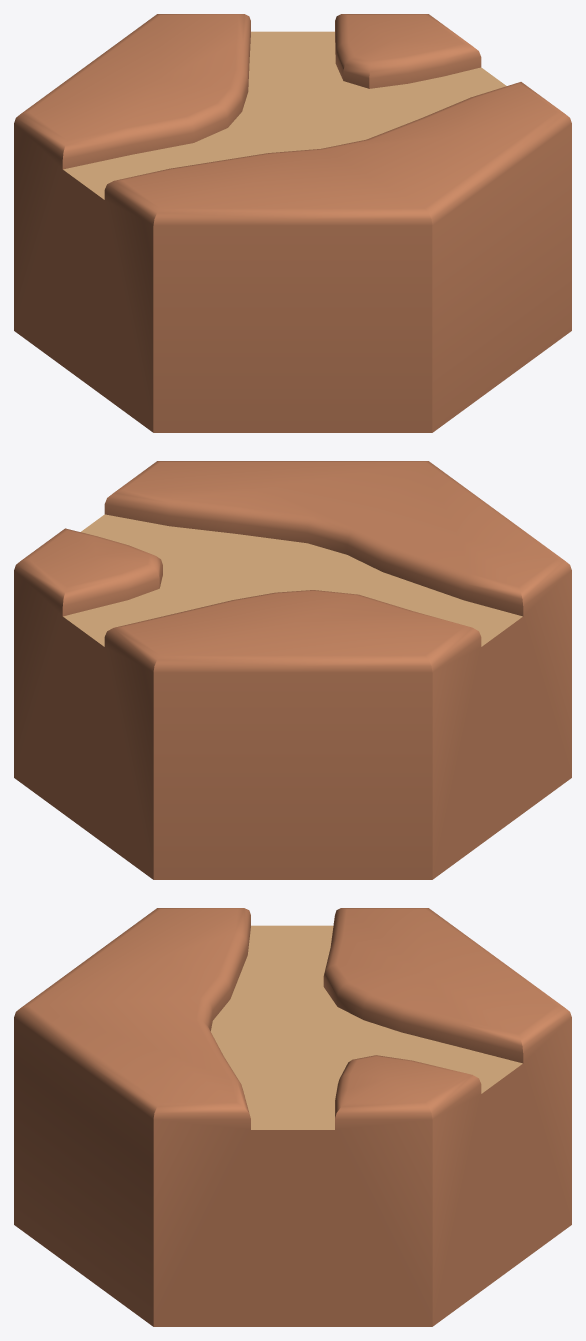
File: hex_rock_roadF.glb
The picture shows the model from 3 angles, top to bottom: view 1: azimuth 30°, elevation 25°; view 2: azimuth 150°, elevation 25°; view 3: azimuth 270°, elevation 25°; orthographic projection.
Parts seen in each view (by area): view 1: hex_rock_roadF; view 2: hex_rock_roadF; view 3: hex_rock_roadF.
Boxes of the visible parts, x1,y1,x2,y2 form: hex_rock_roadF: (14, 14, 571, 432); hex_rock_roadF: (14, 461, 571, 879); hex_rock_roadF: (14, 908, 571, 1326).
Size of the model in its own units: 2 by 1 by 2.31.
